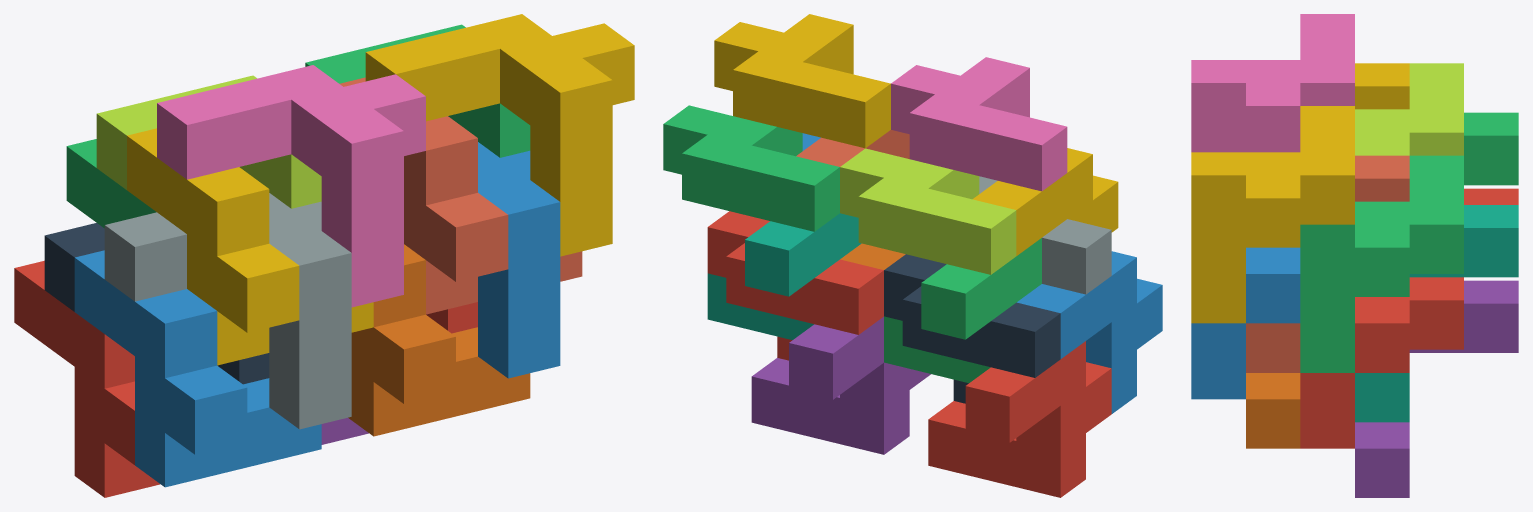
File: tiling.obj
3 renders of one model, left to right at view 1: azimuth 30°, elevation 25°; view 2: azimuth 150°, elevation 25°; view 3: azimuth 270°, elevation 25°, orthographic. The views are drawn at different scales.
Parts seen in each view (by area): view 1: copy_2_domain_4, copy_2_domain_8, copy_1_domain_2, copy_2_domain_2, copy_1_domain_4, copy_1_domain_6, copy_2_domain_6, copy_1_domain_8, copy_1_domain_1, copy_2_domain_3, copy_2_domain_7, copy_2_domain_1 (+3 smaller); view 2: copy_1_domain_1, copy_2_domain_8, copy_2_domain_4, copy_1_domain_5, copy_2_domain_3, copy_2_domain_7, copy_1_domain_2, copy_2_domain_1, copy_2_domain_5, copy_1_domain_3, copy_1_domain_7, copy_1_domain_4 (+3 smaller); view 3: copy_2_domain_8, copy_2_domain_7, copy_2_domain_4, copy_2_domain_5, copy_2_domain_6, copy_1_domain_5, copy_2_domain_3, copy_1_domain_7, copy_1_domain_8, copy_1_domain_6, copy_1_domain_3, copy_1_domain_4 (+1 smaller).
Boxes of the visible parts, x1,y1,x2,y2 form: copy_2_domain_4: (157, 65, 425, 307); copy_2_domain_8: (365, 14, 634, 256); copy_1_domain_2: (74, 250, 321, 487); copy_2_domain_2: (104, 193, 351, 429); copy_1_domain_4: (127, 128, 373, 365); copy_1_domain_6: (348, 244, 530, 436); copy_2_domain_6: (478, 142, 560, 378); copy_1_domain_8: (339, 77, 582, 314); copy_1_domain_1: (14, 260, 159, 497); copy_2_domain_3: (96, 75, 321, 208); copy_2_domain_7: (305, 24, 530, 157); copy_2_domain_1: (44, 223, 269, 384); copy_1_domain_1: (928, 341, 1111, 497); copy_2_domain_8: (714, 14, 890, 148); copy_2_domain_4: (891, 57, 1067, 191); copy_1_domain_5: (751, 317, 930, 454); copy_2_domain_3: (840, 148, 1016, 274); copy_2_domain_7: (663, 105, 839, 231); copy_1_domain_2: (1017, 251, 1162, 413); copy_2_domain_1: (884, 254, 1060, 403); copy_2_domain_5: (707, 211, 883, 360); copy_1_domain_3: (884, 238, 1041, 382); copy_1_domain_7: (707, 213, 861, 339); copy_1_domain_4: (973, 148, 1118, 255); copy_2_domain_8: (1191, 106, 1354, 323); copy_2_domain_7: (1300, 155, 1463, 372); copy_2_domain_4: (1191, 14, 1354, 152); copy_2_domain_5: (1300, 277, 1463, 448); copy_2_domain_6: (1191, 247, 1300, 399); copy_1_domain_5: (1355, 280, 1518, 497); copy_2_domain_3: (1355, 63, 1463, 155); copy_1_domain_7: (1355, 205, 1518, 422); copy_1_domain_8: (1246, 155, 1409, 372); copy_1_domain_6: (1246, 373, 1300, 448); copy_1_domain_3: (1464, 112, 1518, 185); copy_1_domain_4: (1355, 63, 1409, 109).
Size of the model in its own units: 9 by 7 by 6.
